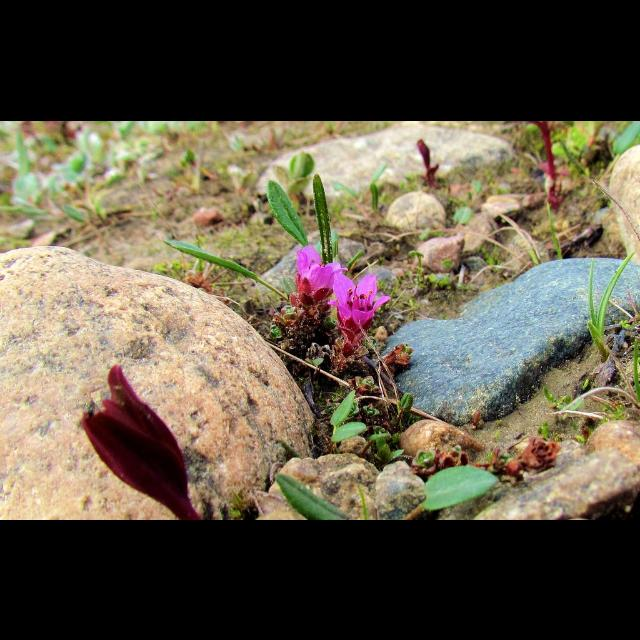Flower: (77, 372, 201, 506), (329, 269, 387, 339), (289, 244, 345, 314)
